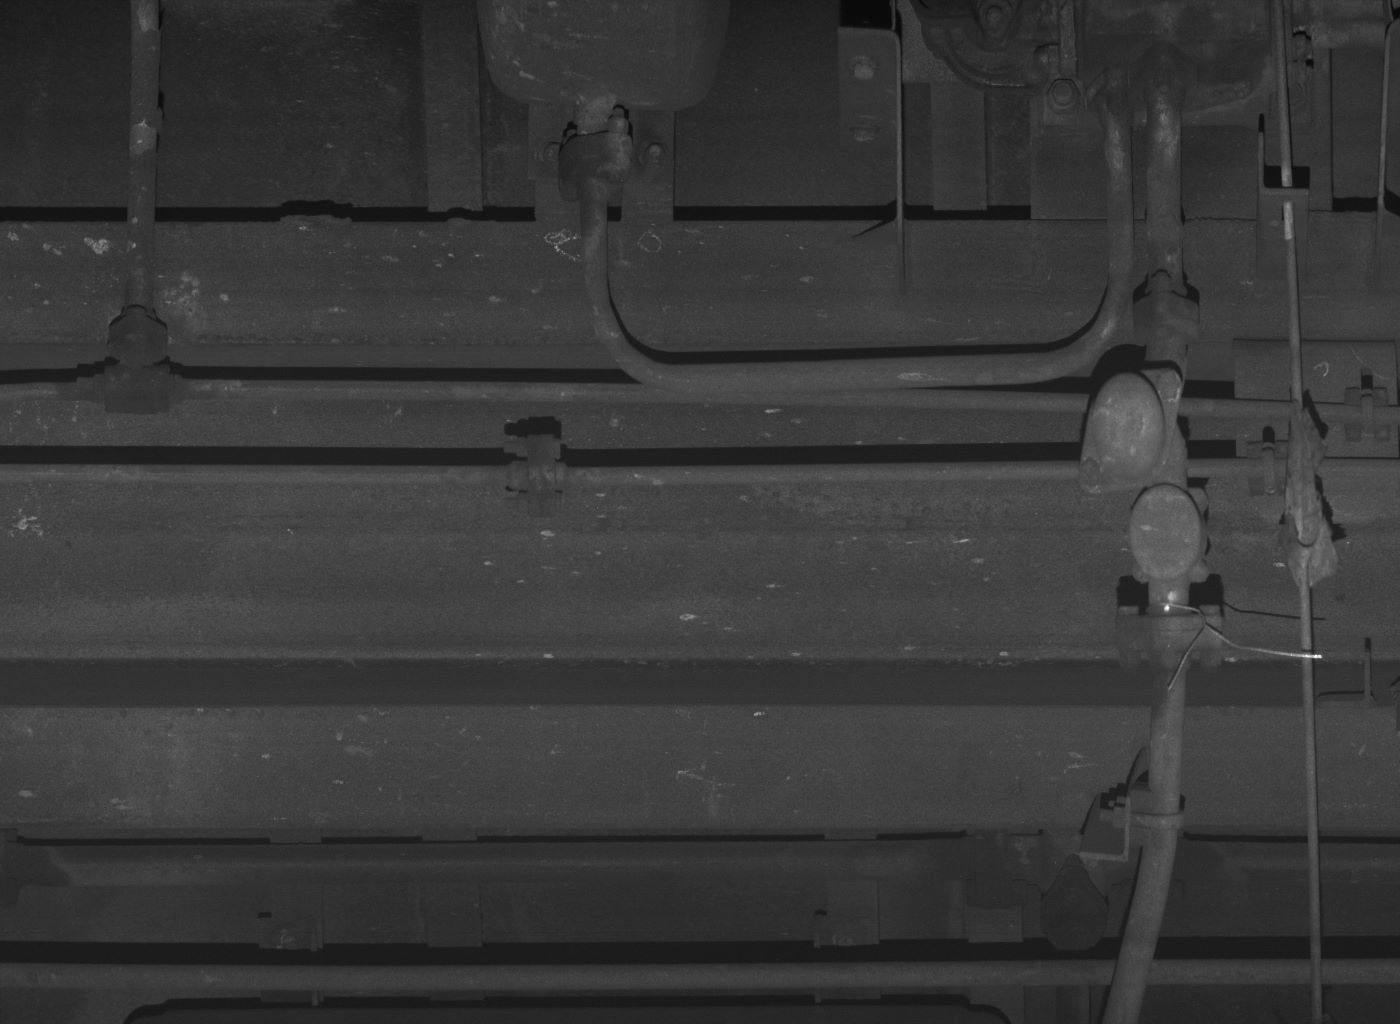normal: (1127, 484, 1217, 580)
